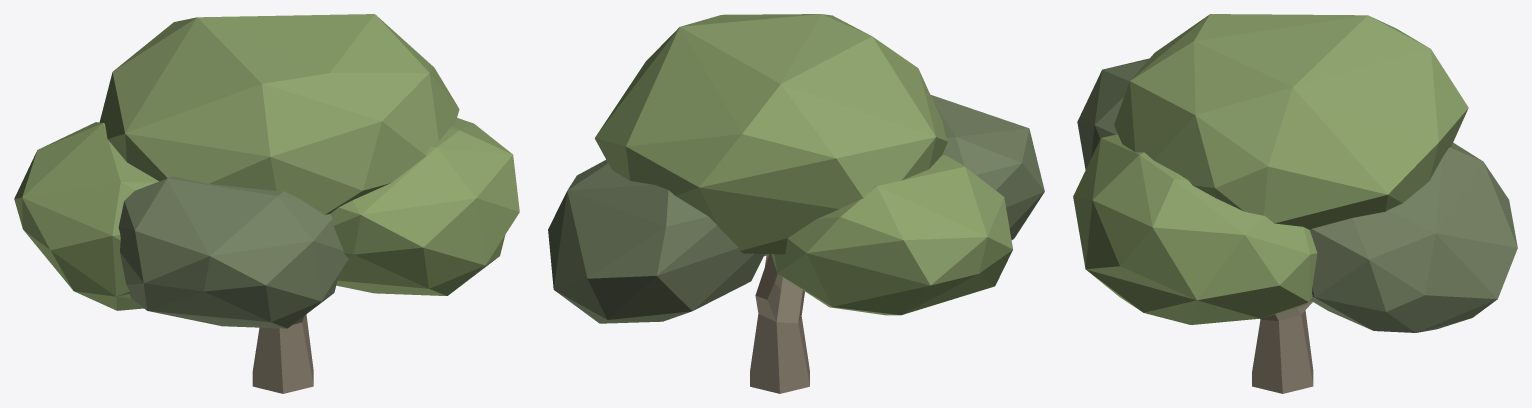
The model's file is bush_1.fbx.
3 renders of one model, left to right at view 1: azimuth 30°, elevation 25°; view 2: azimuth 150°, elevation 25°; view 3: azimuth 270°, elevation 25°, orthographic.
Visible parts, largest first — view 1: bush_1; view 2: bush_1; view 3: bush_1.
Part boxes in pixels (bbox=[...]): bush_1: bbox=[14, 14, 519, 393]; bush_1: bbox=[548, 14, 1044, 393]; bush_1: bbox=[1073, 14, 1517, 393].
Size of the model in its own units: 1.78 by 1.37 by 1.61.
